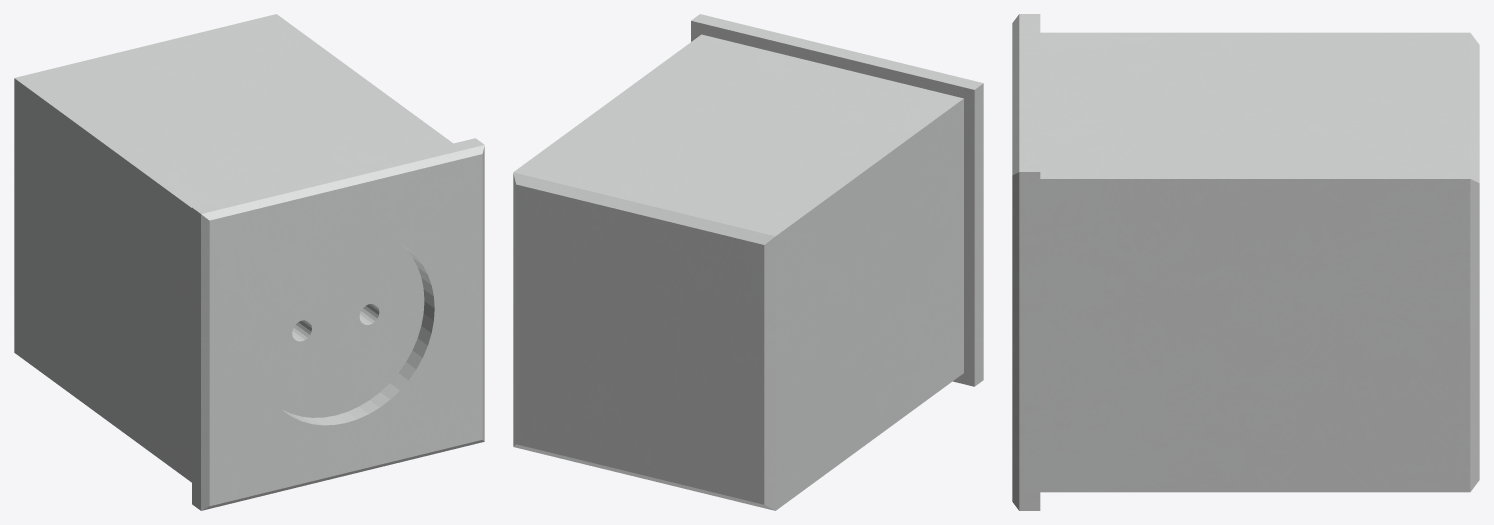
File: socket_vis.obj
3 renders of one model, left to right at view 1: azimuth 30°, elevation 25°; view 2: azimuth 150°, elevation 25°; view 3: azimuth 270°, elevation 25°, orthographic. The views are drawn at different scales.
Size of the model in its own units: 0.08 by 0.08 by 0.1.
Materials: 1 (1 with a texture image).
